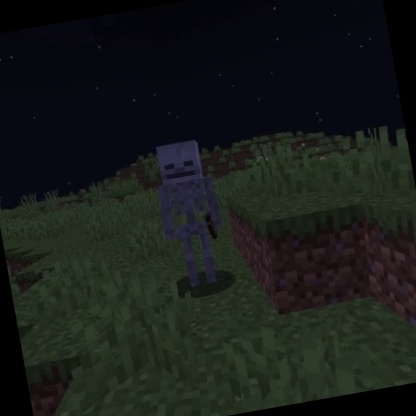skeleton: (144, 132, 235, 294)
